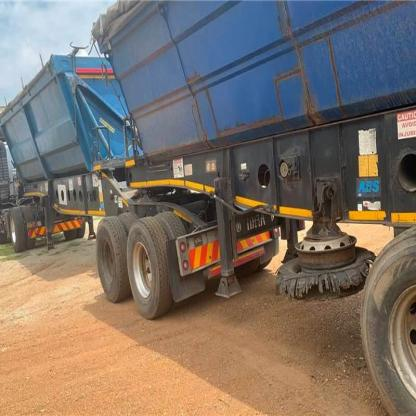dump_truck: (4, 1, 416, 403)
